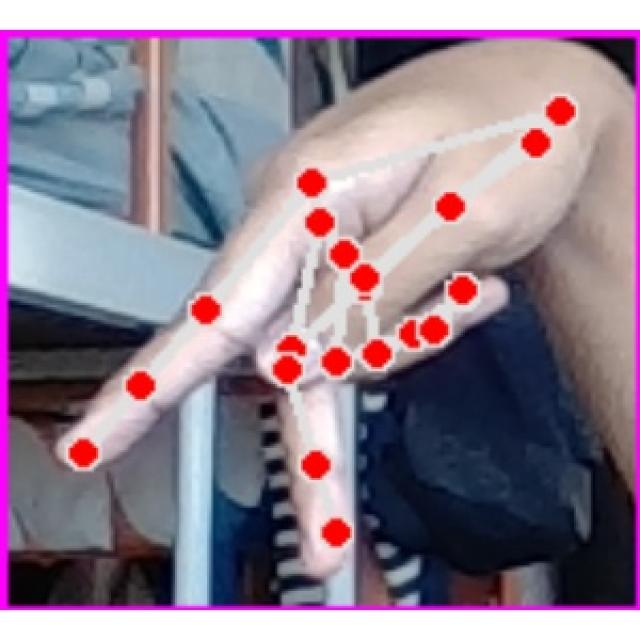P: (45, 50, 596, 583)
